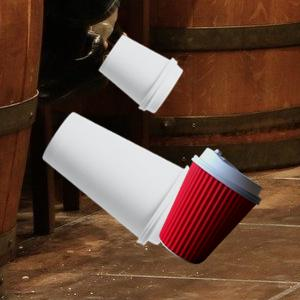cup: (160, 145, 264, 266), (98, 32, 183, 112)
